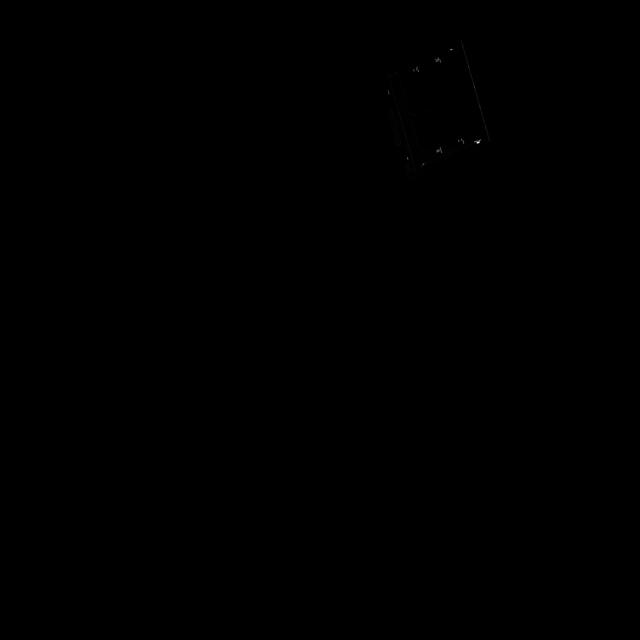satellite: (395, 38, 489, 170)
